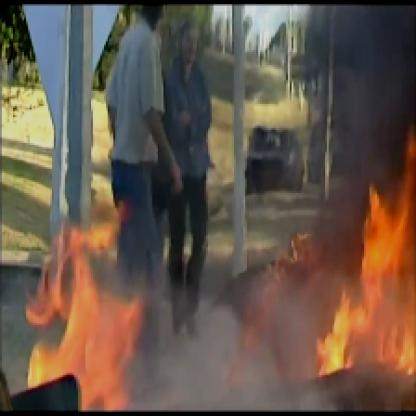Fire: (22, 136, 414, 414)
